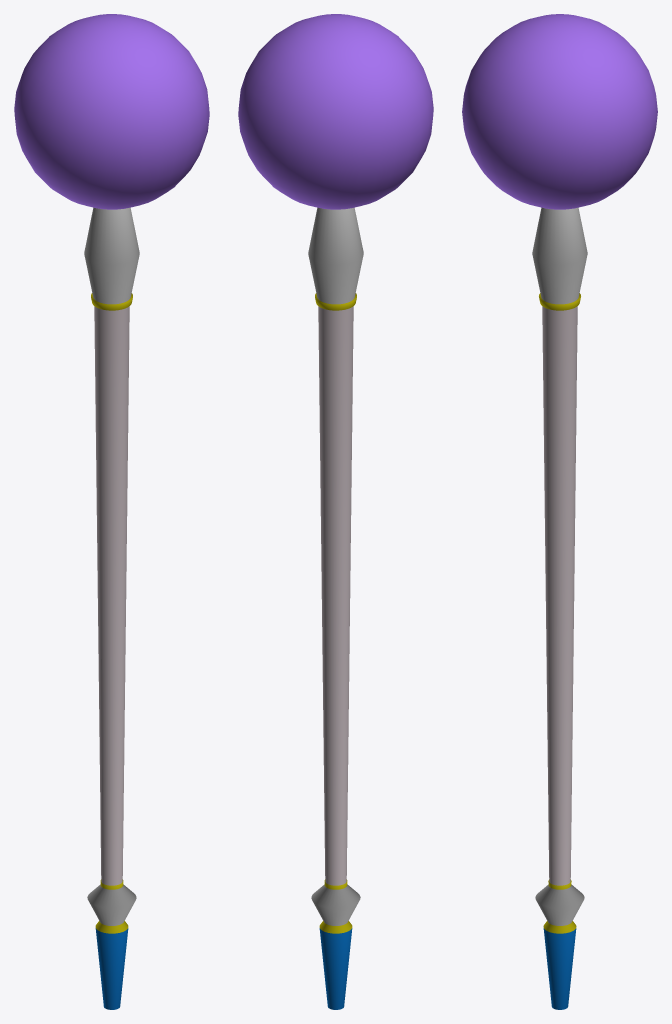
File: Wand.fbx
3 views of the same model, side by side, from view 1: azimuth 30°, elevation 25°; view 2: azimuth 150°, elevation 25°; view 3: azimuth 270°, elevation 25° (orthographic).
Parts seen in each view (by area): view 1: 球, 円柱; view 2: 球, 円柱; view 3: 球, 円柱.
Boxes of the visible parts, bbox=[...] form: 球: bbox=[14, 14, 209, 209]; 円柱: bbox=[84, 207, 139, 1009]; 球: bbox=[238, 14, 433, 209]; 円柱: bbox=[308, 207, 363, 1009]; 球: bbox=[462, 14, 657, 209]; 円柱: bbox=[532, 207, 587, 1009].
Size of the model in its own units: 0.2953 by 1.64 by 0.2953.
